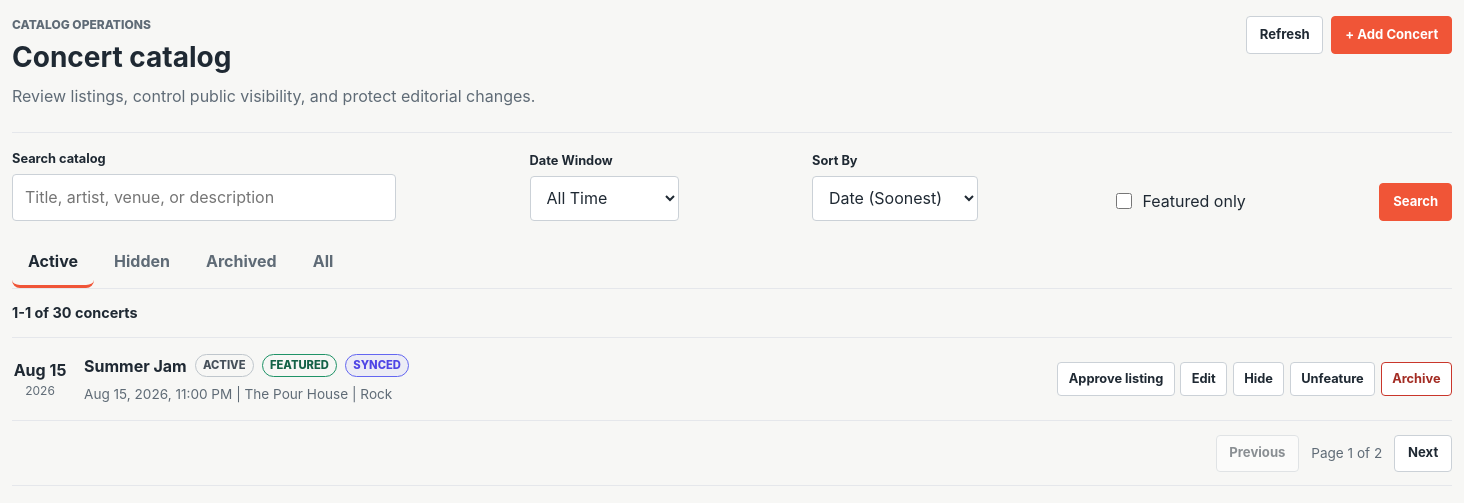
Test: AdminConcertsPage › paginates through the complete admin catalog
Step 1. Click the button "Next" → (1423, 453), box [1394,434,1452,472]
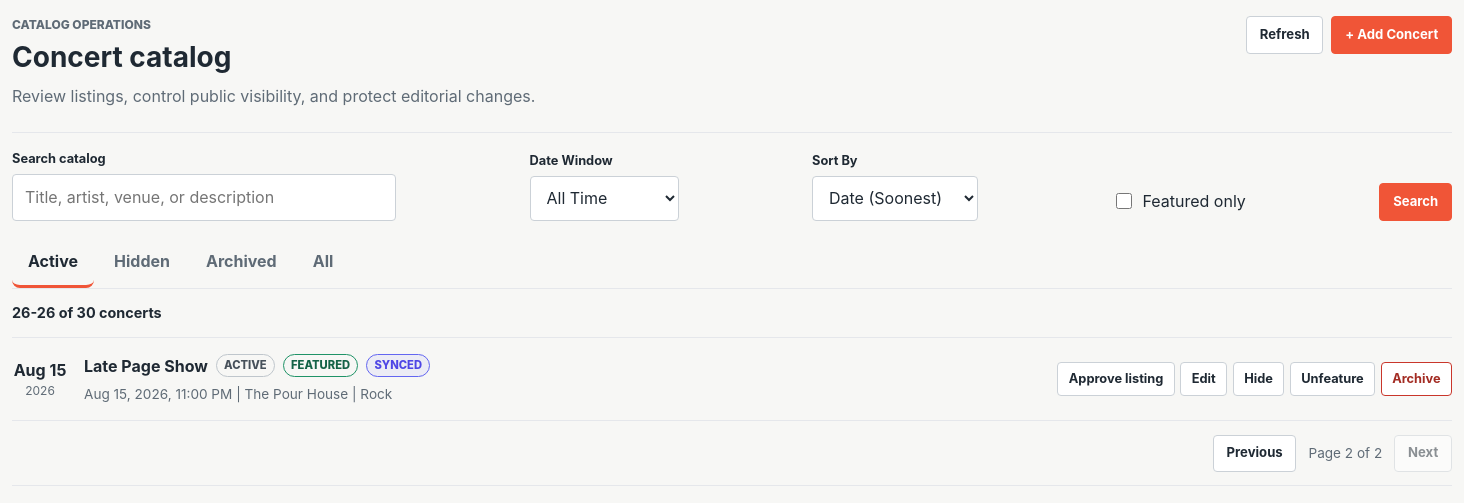
Expected: the text "Late Page Show" is shown, [84,354,208,378]
Expected: the text "Page 2 of 2" is shown, [1308,443,1382,464]
